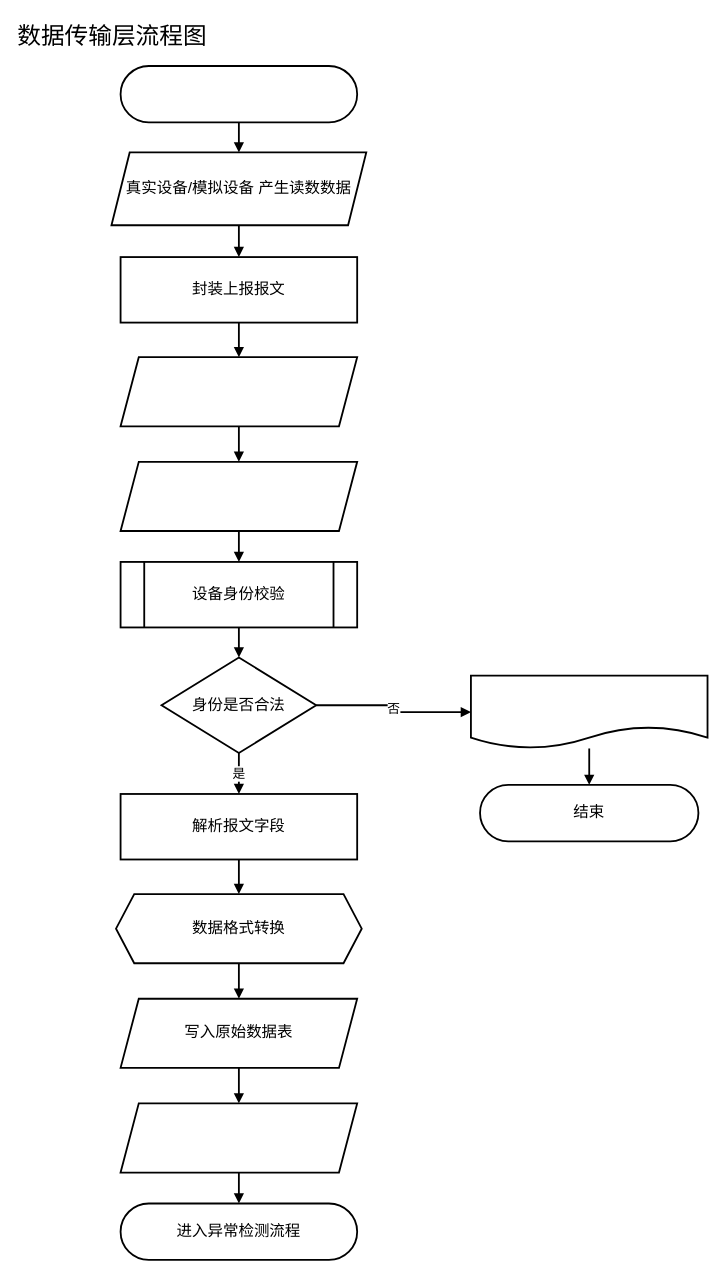
Some shapes in this 723 by 1276 pixel diagram are drawn without their labels. Here are the shapes that lost their labels. From the top down, the box of each, then its label:
(119, 65, 358, 123): 开始
(119, 356, 358, 427): HTTP/JSON 上报数据
(119, 460, 358, 531): 统一接入接口 接收请求
(470, 674, 708, 749): 记录传输失败日志
(119, 1102, 358, 1173): 写入监测读数表
